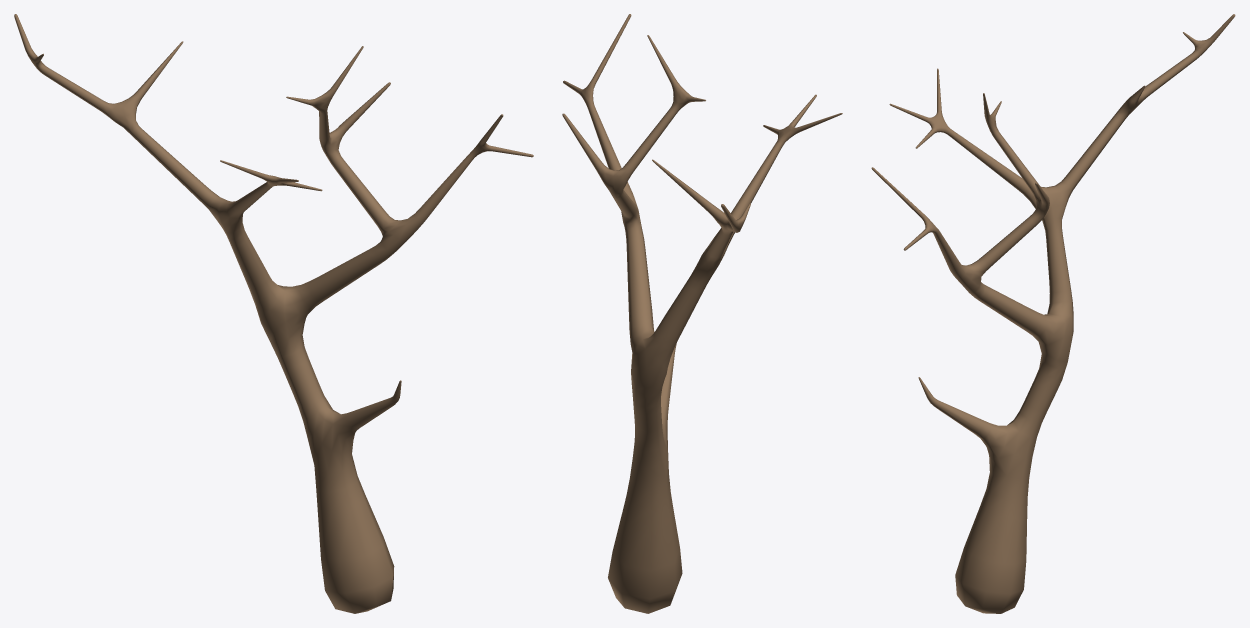
Rendered from Tree_Dead_01_LOD01.fbx.
The picture shows the model from 3 angles, left to right: view 1: azimuth 30°, elevation 25°; view 2: azimuth 150°, elevation 25°; view 3: azimuth 270°, elevation 25°; orthographic projection. The views are drawn at different scales.
Visible parts, largest first — view 1: Tree_Dead_01_LOD01_Geometry; view 2: Tree_Dead_01_LOD01_Geometry; view 3: Tree_Dead_01_LOD01_Geometry.
Boxes of the visible parts, x1=… form: Tree_Dead_01_LOD01_Geometry: x1=14, y1=14, x2=533, y2=613; Tree_Dead_01_LOD01_Geometry: x1=562, y1=14, x2=842, y2=613; Tree_Dead_01_LOD01_Geometry: x1=871, y1=14, x2=1235, y2=613.
Size of the model in its own units: 3.46 by 5.51 by 3.5.
